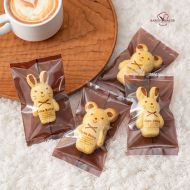Snack: (123, 72, 183, 159)
